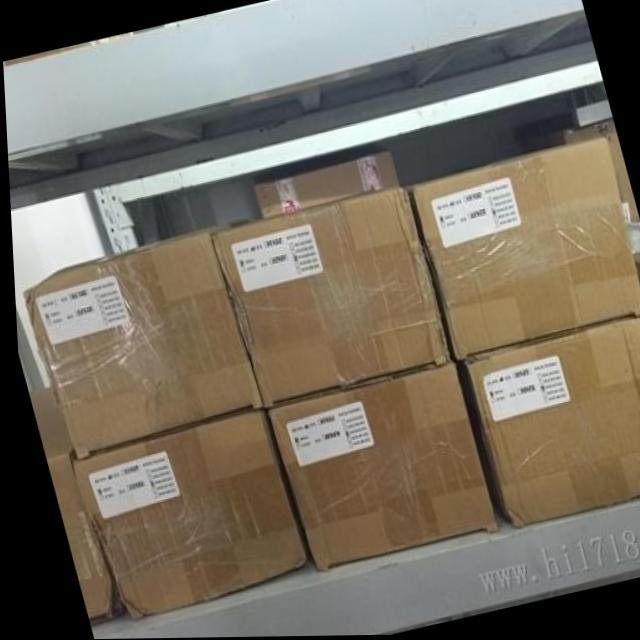box: (21, 217, 262, 460), (212, 182, 448, 410), (399, 137, 640, 360), (70, 407, 305, 621), (261, 362, 494, 574), (454, 317, 640, 527), (25, 386, 116, 622), (252, 143, 395, 210), (550, 121, 637, 226), (505, 114, 572, 158), (572, 101, 610, 129), (631, 252, 640, 304)
